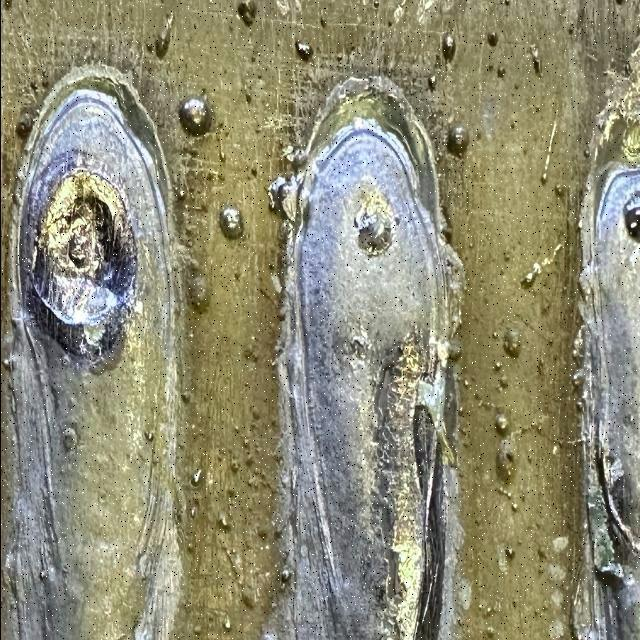Excess Reinforcement: (586, 423, 640, 585), (309, 77, 424, 147), (579, 162, 624, 320), (589, 37, 640, 167), (438, 237, 465, 338), (266, 175, 298, 222), (571, 323, 586, 412), (282, 145, 306, 167), (446, 335, 461, 362)
Spatters: (520, 243, 561, 290), (179, 95, 211, 137), (541, 120, 556, 185), (495, 437, 515, 485), (187, 275, 211, 313), (219, 205, 242, 240), (446, 123, 469, 158), (155, 13, 172, 60), (502, 327, 520, 358), (236, 0, 256, 27), (442, 33, 455, 63), (529, 45, 541, 77), (494, 412, 509, 437), (186, 255, 201, 278), (296, 42, 312, 62), (217, 512, 230, 530), (189, 468, 201, 487), (181, 390, 194, 405), (497, 375, 508, 392), (486, 32, 498, 47), (174, 187, 186, 202), (537, 355, 545, 377), (280, 568, 290, 585), (497, 487, 511, 498), (554, 183, 564, 198), (504, 547, 514, 560), (222, 617, 230, 632), (428, 75, 435, 92), (2, 358, 11, 370), (224, 548, 234, 558), (496, 67, 505, 78), (189, 505, 196, 518), (39, 570, 46, 582), (144, 432, 152, 442), (219, 150, 225, 163), (372, 0, 379, 10), (503, 252, 510, 262), (494, 362, 501, 372), (583, 147, 589, 158), (568, 25, 574, 35), (463, 378, 469, 387), (492, 332, 498, 340), (535, 103, 540, 112), (504, 0, 510, 7), (511, 503, 516, 511), (514, 83, 519, 90), (243, 383, 249, 388), (488, 65, 492, 72)
